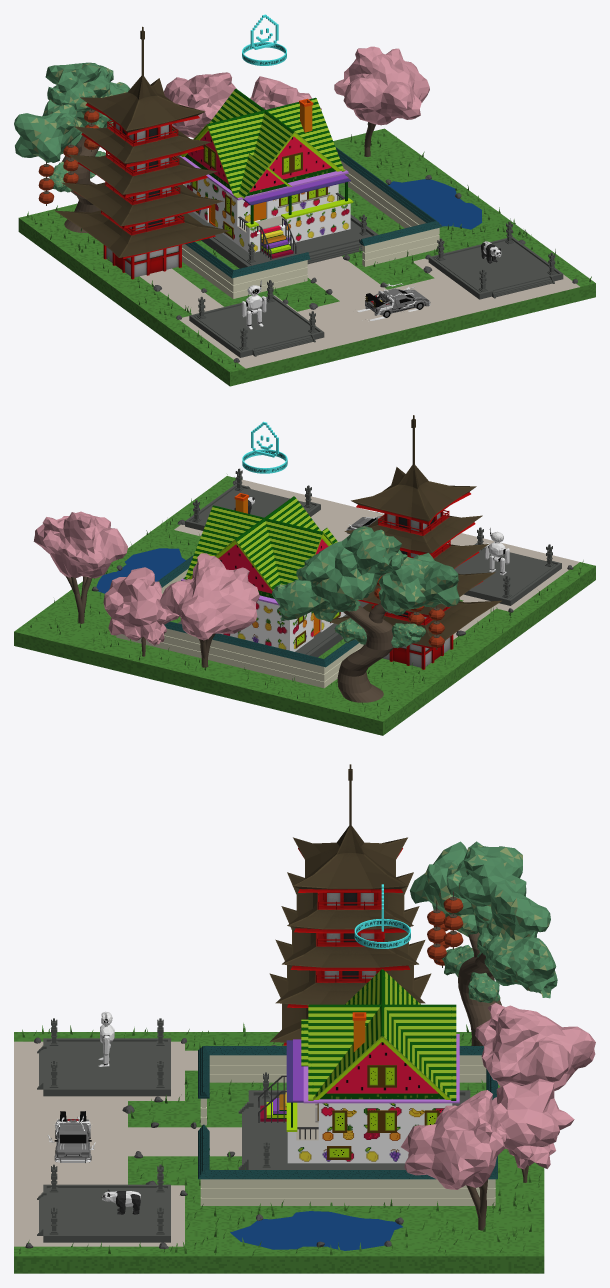
3 views of the same model, one above another, from view 1: azimuth 30°, elevation 25°; view 2: azimuth 150°, elevation 25°; view 3: azimuth 270°, elevation 25° (orthographic). The views are drawn at different scales.
Parts seen in each view (by area): view 1: Cube.005, Cube.1063, VEHICLES_DELOREAN, TYPE_PREMIUM, OBJRANDOM_PLATZEEBOT; view 2: Cube.005, Cube.1063, TYPE_PREMIUM, OBJRANDOM_PLATZEEBOT; view 3: Cube.005, Cube.1063, VEHICLES_DELOREAN, TYPE_PREMIUM, ANIMAL_PANDA.
Part boxes in pixels (x1,y1,x2,y2): Cube.005: (14,26,595,386); Cube.1063: (178,88,353,259); VEHICLES_DELOREAN: (357,283,430,321); TYPE_PREMIUM: (242,14,286,65); OBJRANDOM_PLATZEEBOT: (241,280,266,329); Cube.005: (14,415,595,735); Cube.1063: (181,493,345,651); TYPE_PREMIUM: (242,421,287,473); OBJRANDOM_PLATZEEBOT: (484,527,509,575); Cube.005: (14,764,595,1273); Cube.1063: (258,969,459,1163); VEHICLES_DELOREAN: (47,1111,95,1162); TYPE_PREMIUM: (354,884,410,948); ANIMAL_PANDA: (101,1189,140,1214).
Size of the model in its own units: 4528 by 2693 by 4389.
40 materials, 8 textured.
